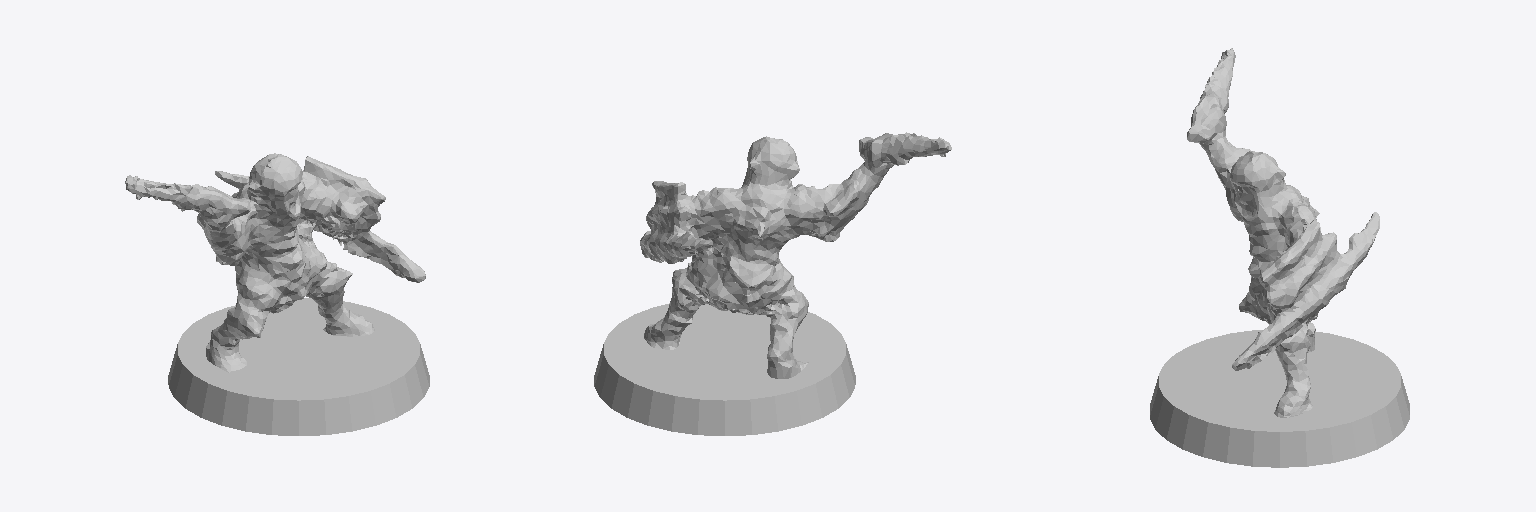
The model's file is MeleeEnemy.obj.
The picture shows the model from 3 angles: view 1: azimuth 30°, elevation 25°; view 2: azimuth 150°, elevation 25°; view 3: azimuth 270°, elevation 25°; orthographic projection.
Parts seen in each view (by area): view 1: default001, Object001; view 2: default001, Object001; view 3: Object001, default001.
Boxes of the visible parts, x1,y1,x2,y2 form: default001: [125, 153, 425, 372]; Object001: [168, 298, 429, 435]; default001: [640, 132, 951, 378]; Object001: [594, 303, 855, 435]; Object001: [1150, 330, 1409, 467]; default001: [1187, 48, 1379, 417].
Size of the model in its own units: 1.36 by 1.12 by 0.9782.